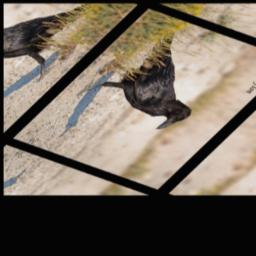Crow: (70, 21, 253, 135)
